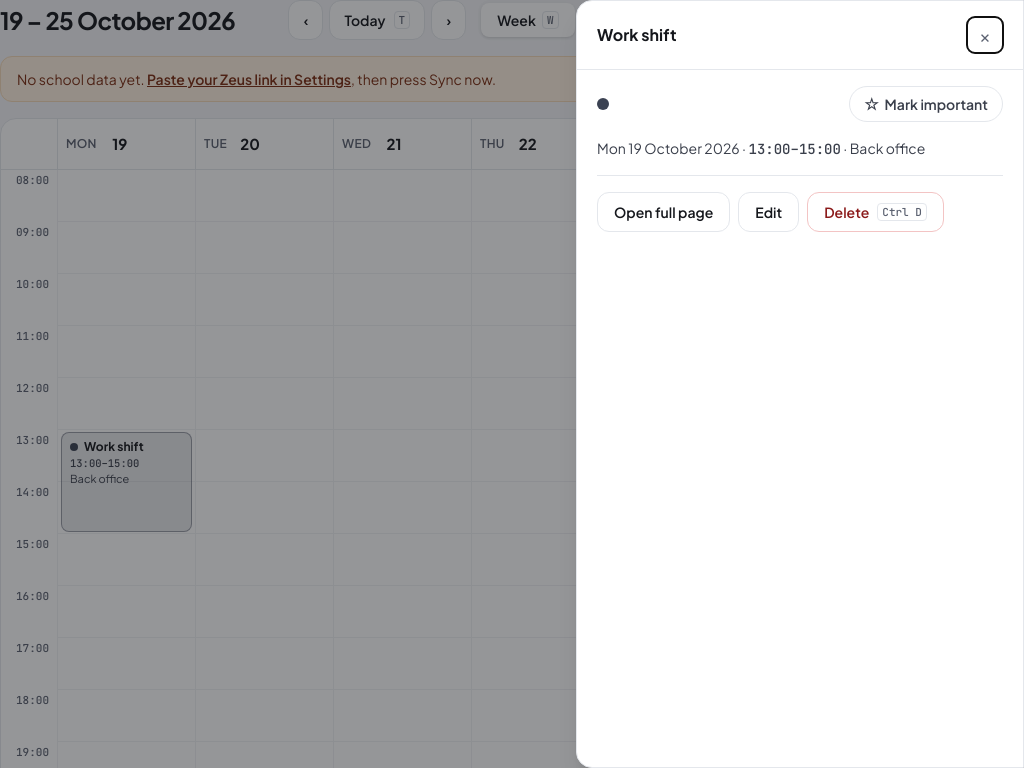
Test case: CalendarPage popups › saving an edit swaps edit= for event= without a new entry
Click the button "Edit".
click(769, 212)  # box [738,192,799,232]
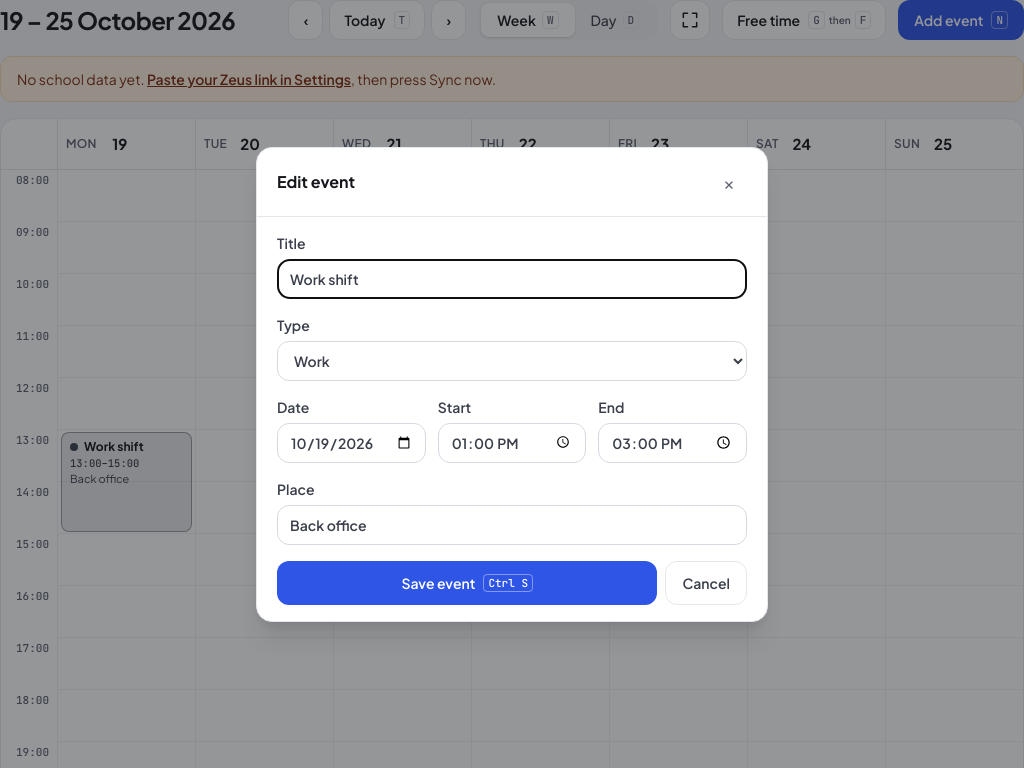
Click the button "Save event Ctrl S".
click(467, 582)  # box [277,560,658,604]
(page scrolled)
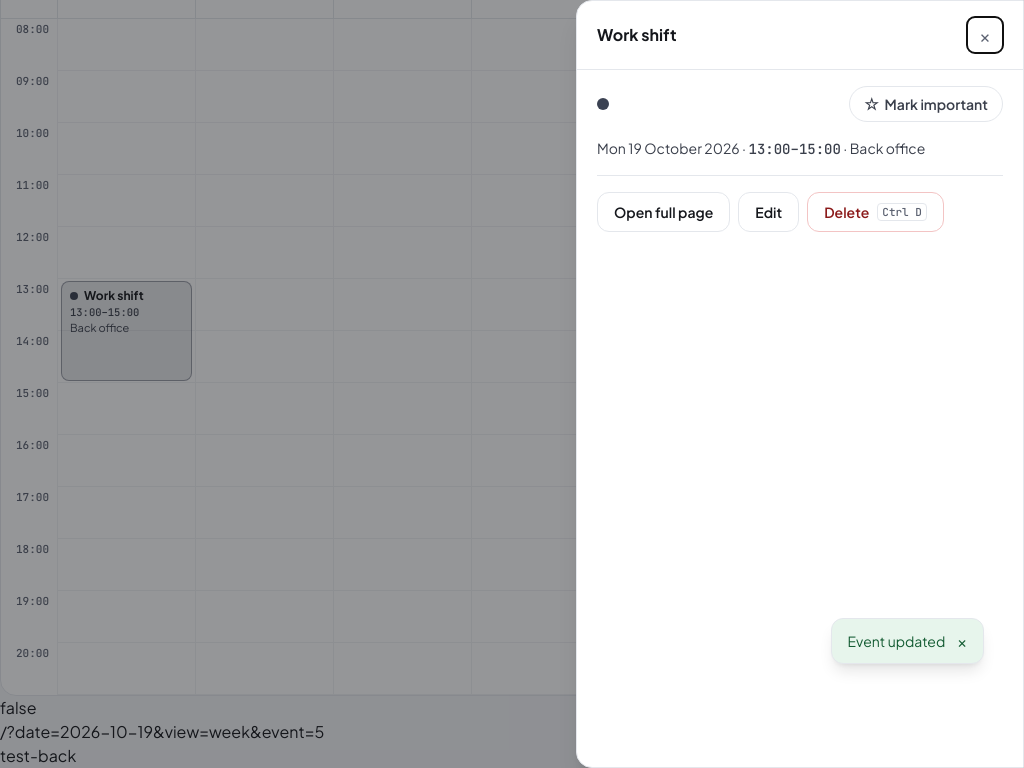
Now the text with test id "where" shows "event=5", box [0,721,324,742]
Now the text with test id "where" no longer shows "edit=", box [0,721,324,742]
